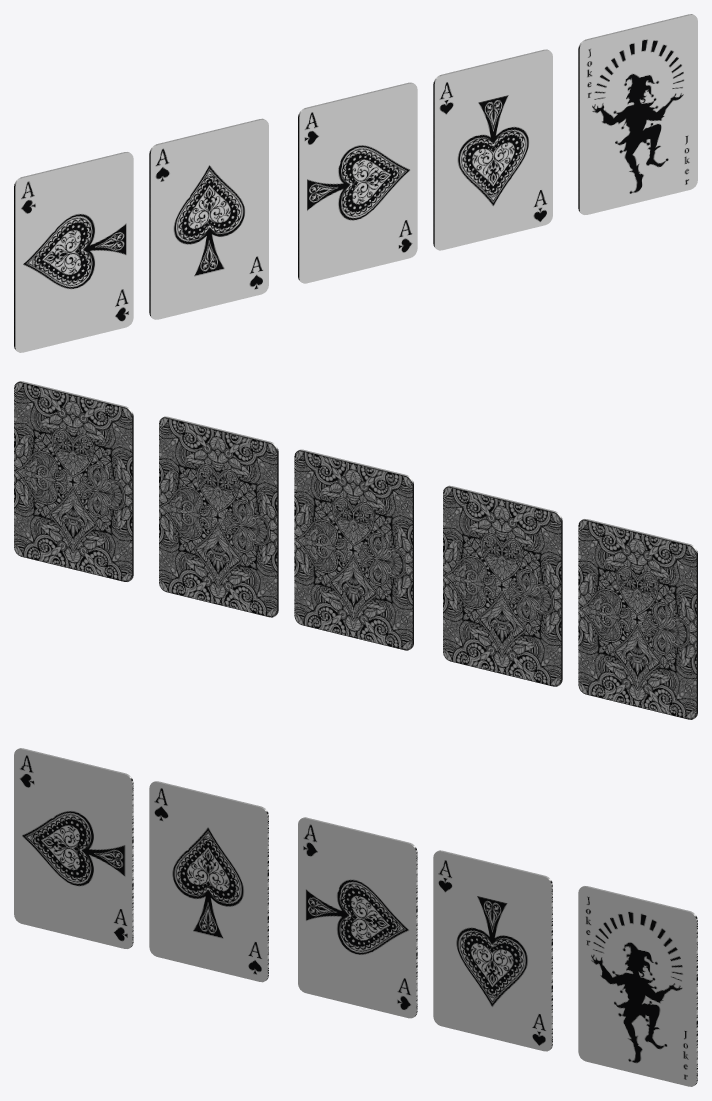
Rendered from card five.fbx.
3 renders of one model, top to bottom at view 1: azimuth 30°, elevation 25°; view 2: azimuth 150°, elevation 25°; view 3: azimuth 330°, elevation 25°, orthographic.
Parts seen in each view (by area): view 1: Plane.001, Plane.004, Plane, Plane.002, Plane.003; view 2: Plane.001, Plane.004, Plane, Plane.002, Plane.003; view 3: Plane.001, Plane.004, Plane, Plane.002, Plane.003.
Boxes of the visible parts, left/top/right/bottom form: Plane.001: left=433, top=49, right=552, bottom=250; Plane.004: left=149, top=118, right=268, bottom=319; Plane: left=298, top=82, right=417, bottom=283; Plane.002: left=578, top=14, right=697, bottom=214; Plane.003: left=14, top=152, right=133, bottom=352; Plane.001: left=159, top=416, right=278, bottom=617; Plane.004: left=443, top=485, right=562, bottom=686; Plane: left=294, top=449, right=413, bottom=650; Plane.002: left=14, top=381, right=133, bottom=581; Plane.003: left=578, top=519, right=697, bottom=719; Plane.001: left=433, top=850, right=552, bottom=1051; Plane.004: left=149, top=781, right=268, bottom=982; Plane: left=298, top=817, right=417, bottom=1018; Plane.002: left=578, top=886, right=697, bottom=1086; Plane.003: left=14, top=748, right=133, bottom=948.
Bounding box in the file's own units: 5762 × 1409 × 18.
Materials: 1 (1 with a texture image).
